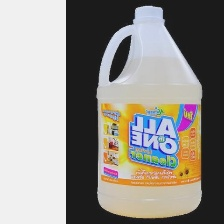cleaning_solution: (93, 2, 205, 220)
